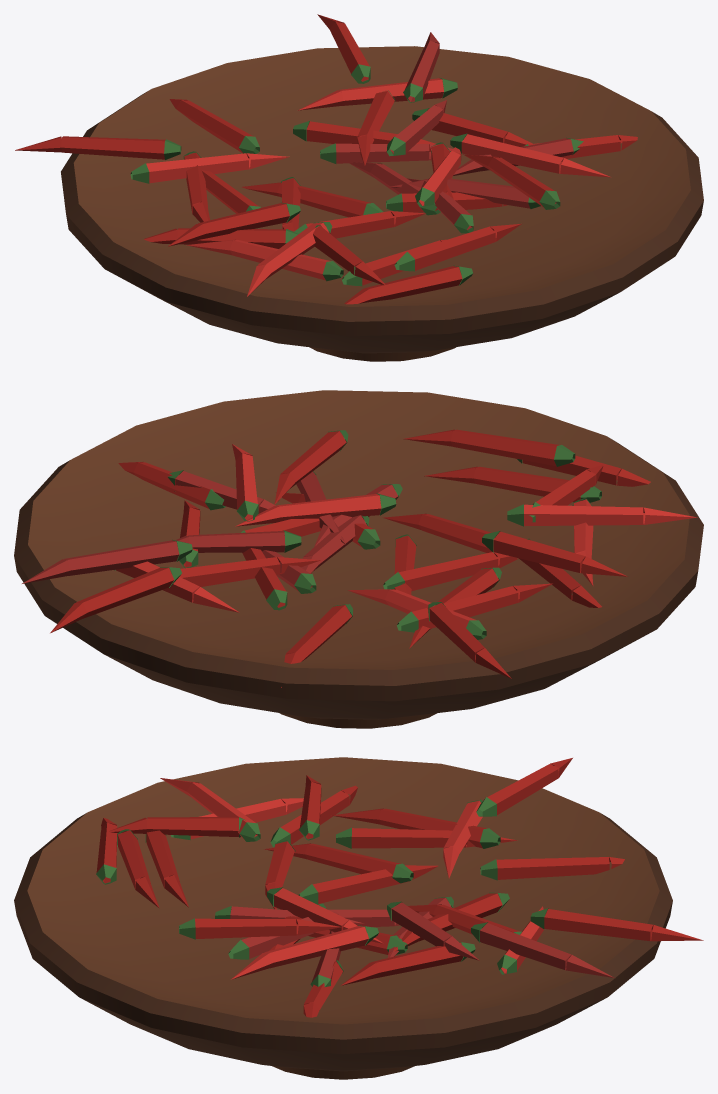
The model's file is SC_Home_Onggi_Lid_Peppers.gltf.
3 views of the same model, one above another, from view 1: azimuth 30°, elevation 25°; view 2: azimuth 150°, elevation 25°; view 3: azimuth 270°, elevation 25° (orthographic). The views are drawn at different scales.
Parts seen in each view (by area): view 1: SC_Home_Onggi_Lid_Peppers; view 2: SC_Home_Onggi_Lid_Peppers; view 3: SC_Home_Onggi_Lid_Peppers.
Boxes of the visible parts, box(x1,y1,x2,y2) form: SC_Home_Onggi_Lid_Peppers: box(15, 14, 703, 361); SC_Home_Onggi_Lid_Peppers: box(14, 390, 703, 728); SC_Home_Onggi_Lid_Peppers: box(14, 757, 703, 1079).
Bounding box in the file's own units: 0.496 × 0.14 × 0.5193.
1 material, 1 textured.
